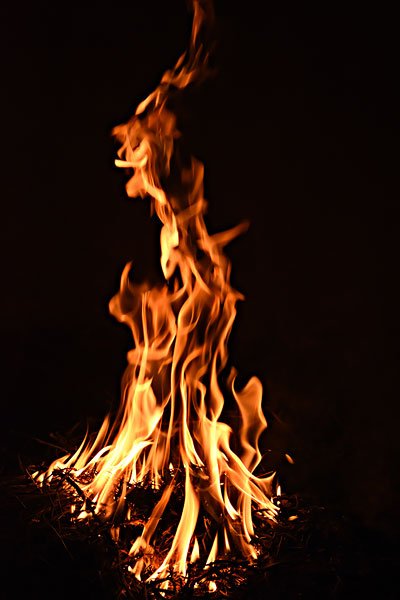fire: (113, 103, 247, 544)
